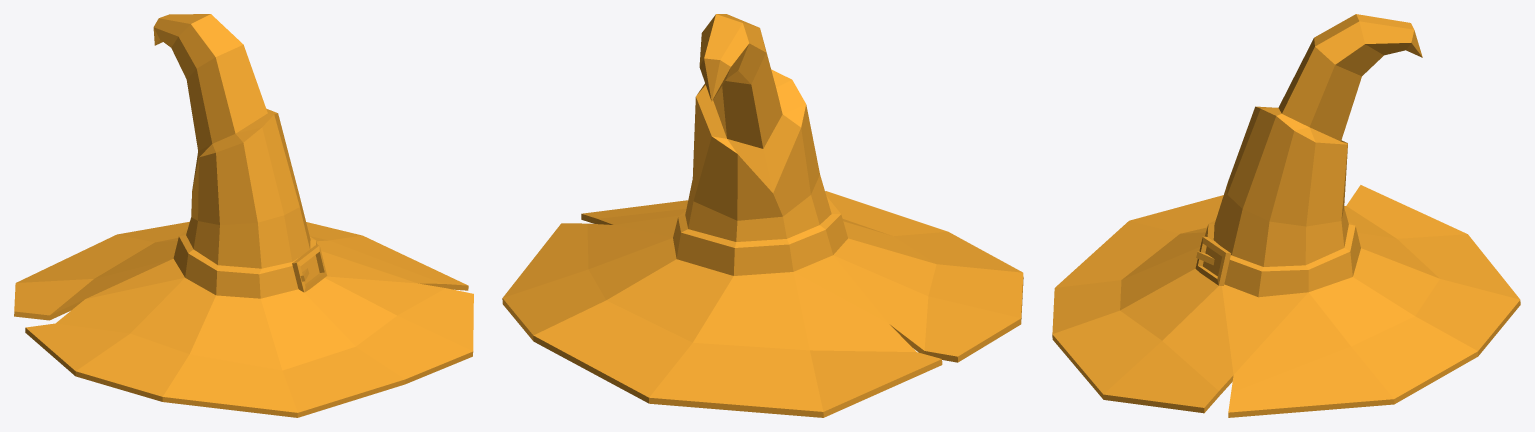
The model's file is SM_Cat_Hat_Witch.fbx.
3 renders of one model, left to right at view 1: azimuth 30°, elevation 25°; view 2: azimuth 150°, elevation 25°; view 3: azimuth 270°, elevation 25°, orthographic. The views are drawn at different scales.
Visible parts, largest first — view 1: SM_Cat_Hat_Witch; view 2: SM_Cat_Hat_Witch; view 3: SM_Cat_Hat_Witch.
Part boxes in pixels (bbox=[...]): SM_Cat_Hat_Witch: bbox=[14, 14, 473, 417]; SM_Cat_Hat_Witch: bbox=[502, 14, 1023, 417]; SM_Cat_Hat_Witch: bbox=[1052, 14, 1520, 417].
Bounding box in the file's own units: 0.1165 × 0.0812 × 0.1128.
